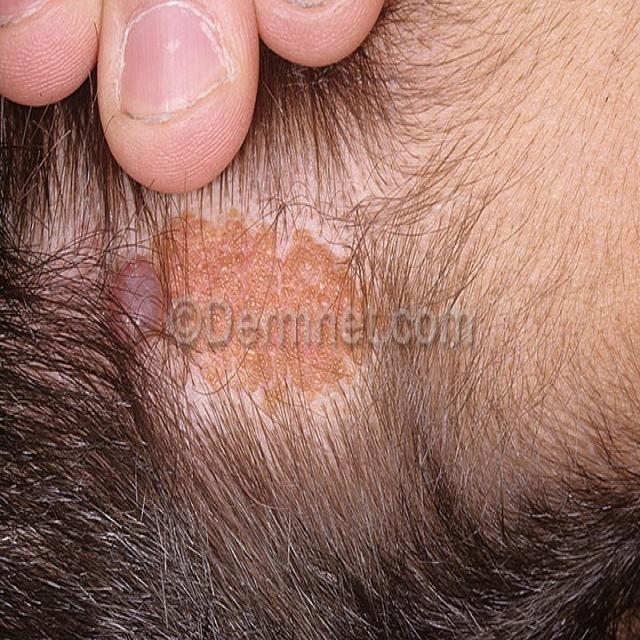Eczema: (81, 216, 385, 401)
